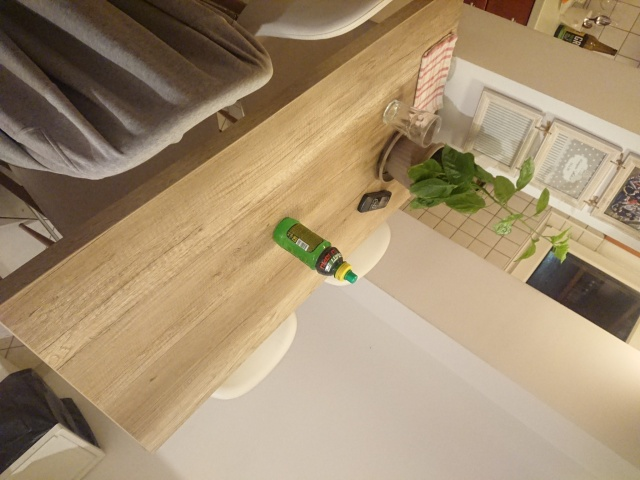Vindi Iso Sport Lemon-Grapefruit 500mL: (270, 215, 359, 285)
